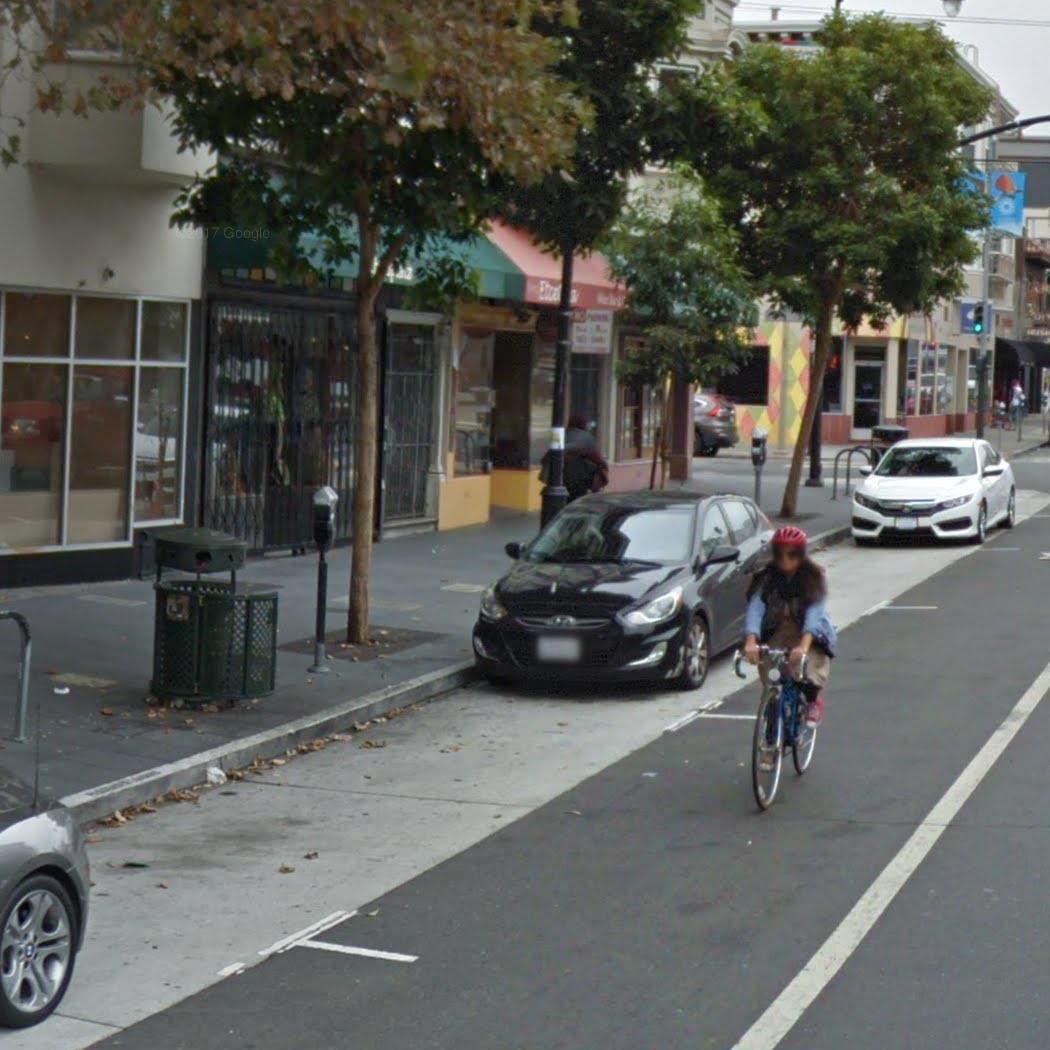No Parking: (568, 304, 617, 357)
